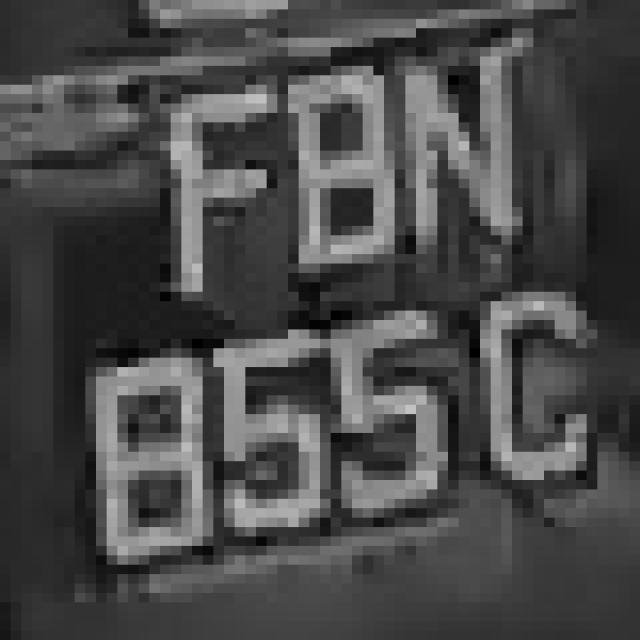5: (320, 311, 469, 527), (203, 320, 320, 555)
8: (64, 329, 203, 565)
B: (298, 47, 394, 292)
C: (469, 292, 587, 508)
F: (160, 47, 288, 301)
N: (395, 38, 533, 254)
